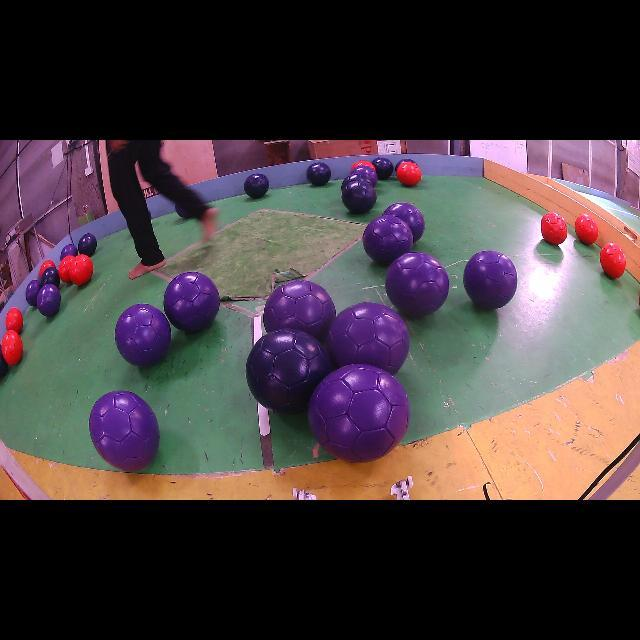B: (246, 329, 332, 414), (341, 180, 376, 214), (244, 174, 269, 199), (306, 162, 331, 186), (371, 158, 394, 180), (341, 174, 371, 189), (40, 266, 60, 288), (78, 234, 98, 256), (0, 346, 9, 378), (395, 159, 416, 171)
P: (308, 364, 410, 462), (328, 302, 410, 375), (89, 391, 160, 471), (264, 280, 336, 341), (385, 252, 449, 318), (115, 304, 171, 366), (164, 271, 220, 332), (464, 250, 518, 309), (362, 215, 414, 265), (382, 202, 425, 242), (36, 284, 61, 316), (351, 165, 378, 187), (25, 280, 41, 306), (60, 244, 78, 260)
R: (600, 242, 626, 279), (541, 212, 568, 245), (69, 254, 94, 285), (575, 214, 599, 245), (1, 330, 22, 365), (396, 161, 421, 186), (5, 308, 22, 334), (59, 255, 74, 282), (39, 260, 55, 278), (351, 160, 376, 171)
